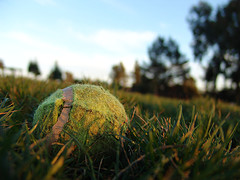tennis ball: (30, 82, 132, 142)
